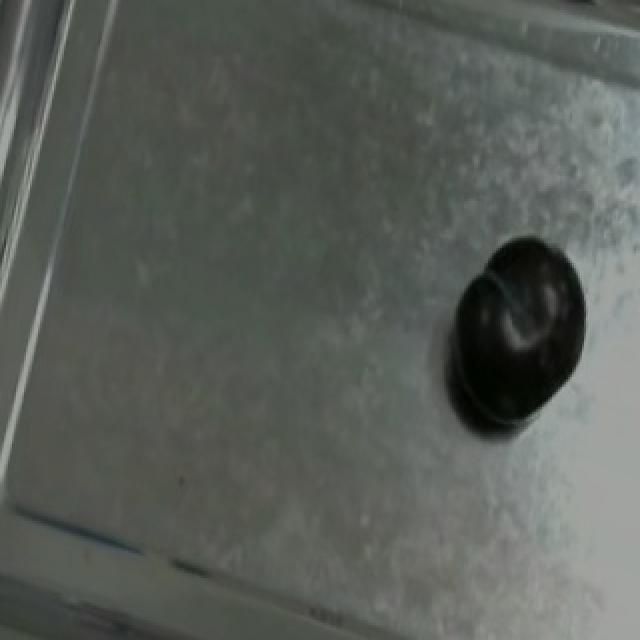Fruit: (440, 218, 598, 439)
